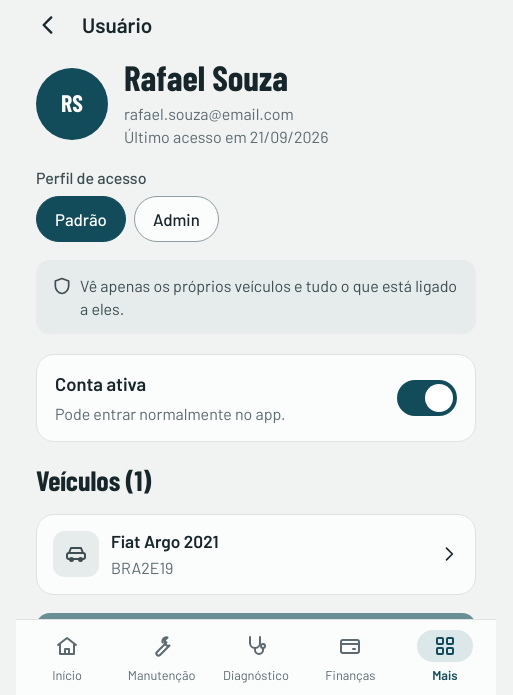
Test: Usuário › altera perfil e salva
This screenshot has width=513, height=695.
Expected: the heading "Rafael Souza" is shown, [124,56,288,98]
Expected: the text "Último acesso em 21/09/2026" is shown, [124,125,328,148]
Click the radio button labelled "Admin". click: (176, 218)
box: [134,196,219,242]
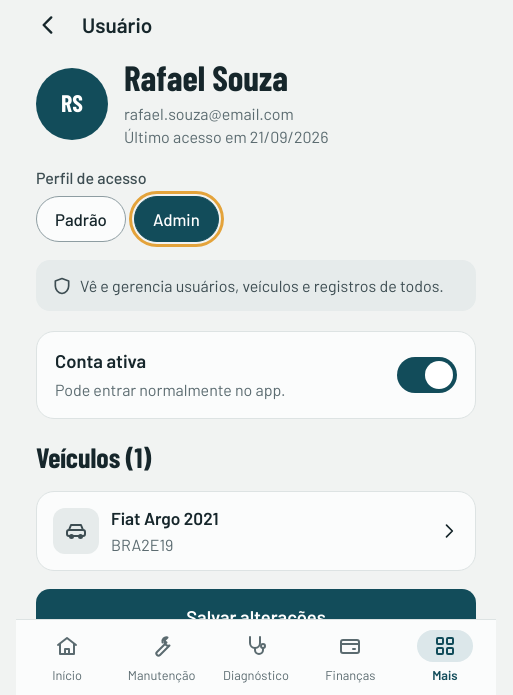
Click the button "Salvar alterações". click: (256, 617)
box: [36,589,476,645]
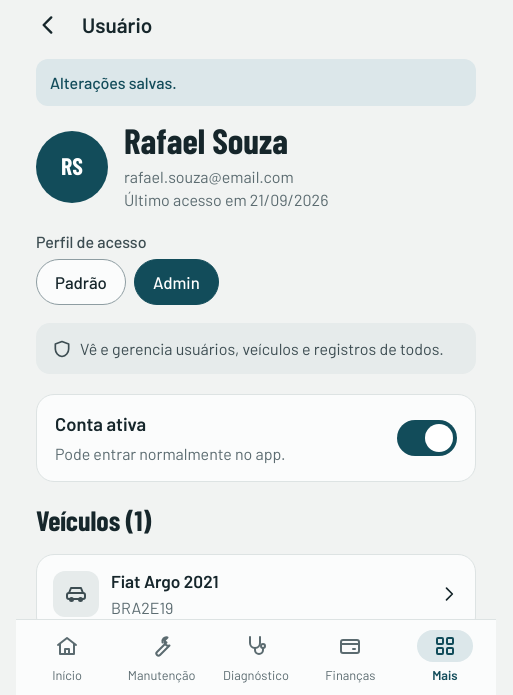
Result: the text "Alterações salvas." is shown at [36,59,476,106]
